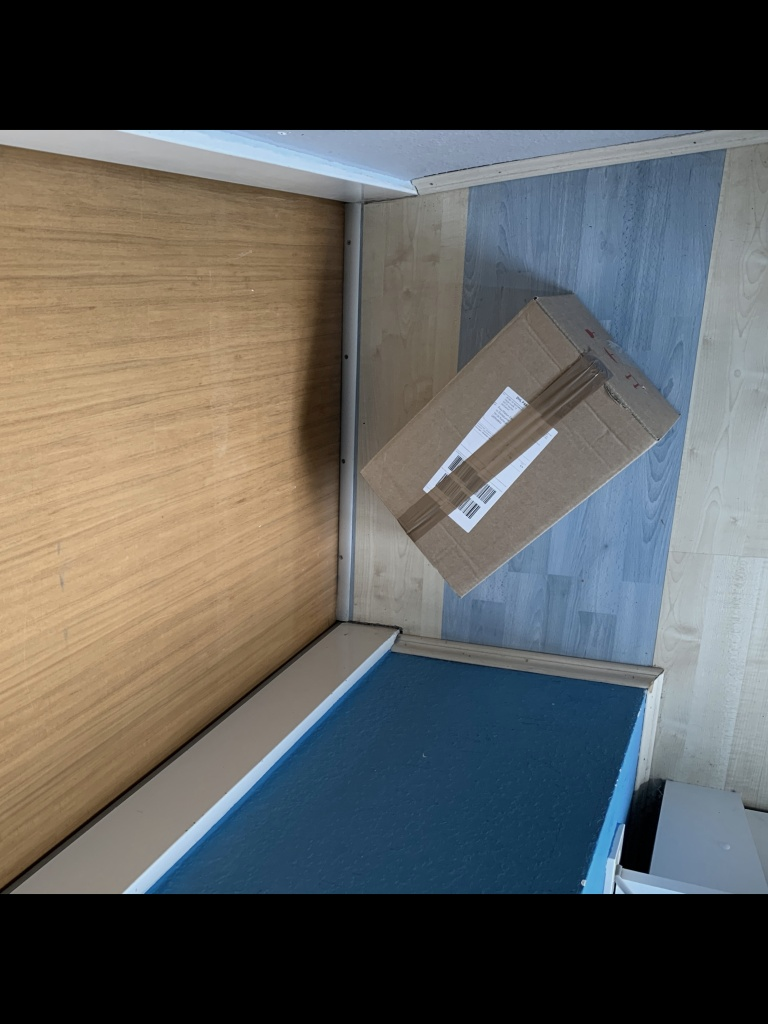good-parcel: (357, 290, 679, 605)
